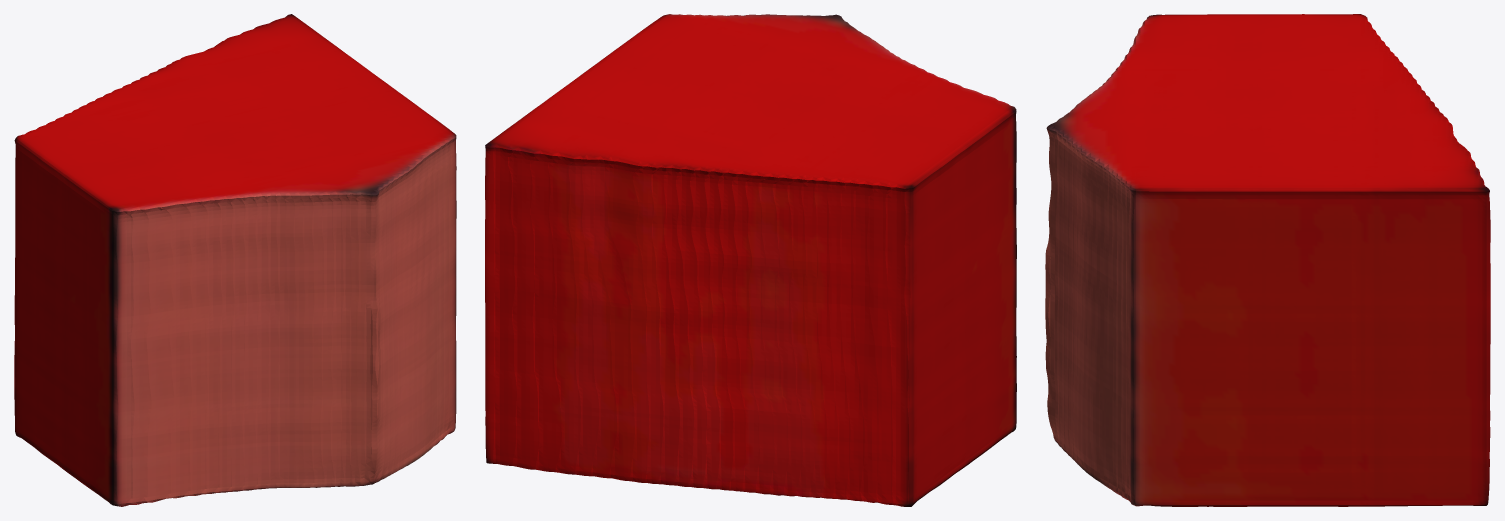
File: image_to_3d_cube.glb
3 renders of one model, left to right at view 1: azimuth 30°, elevation 25°; view 2: azimuth 150°, elevation 25°; view 3: azimuth 270°, elevation 25°, orthographic. The views are drawn at different scales.
Visible parts, largest first — view 1: world; view 2: world; view 3: world.
Boxes of the visible parts, x1,y1,x2,y2 form: world: [14, 14, 456, 506]; world: [485, 14, 1016, 506]; world: [1045, 14, 1490, 506].
Bounding box in the file's own units: 1.44 × 1.22 × 1.54.
